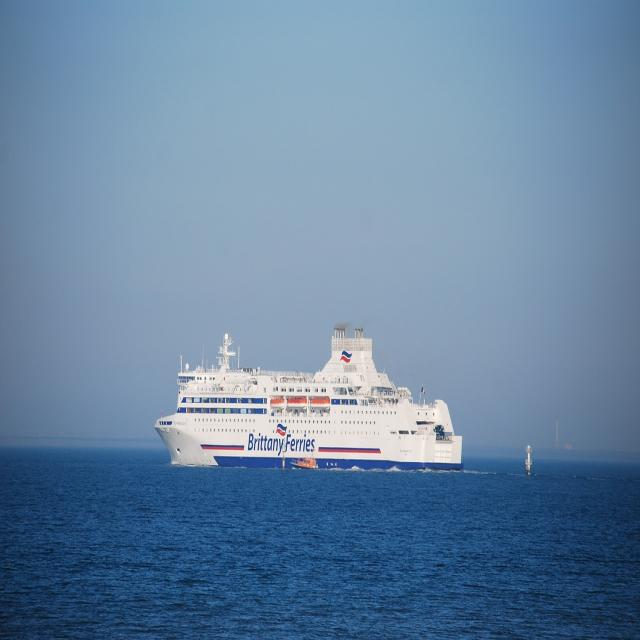ship: (154, 323, 474, 470)
